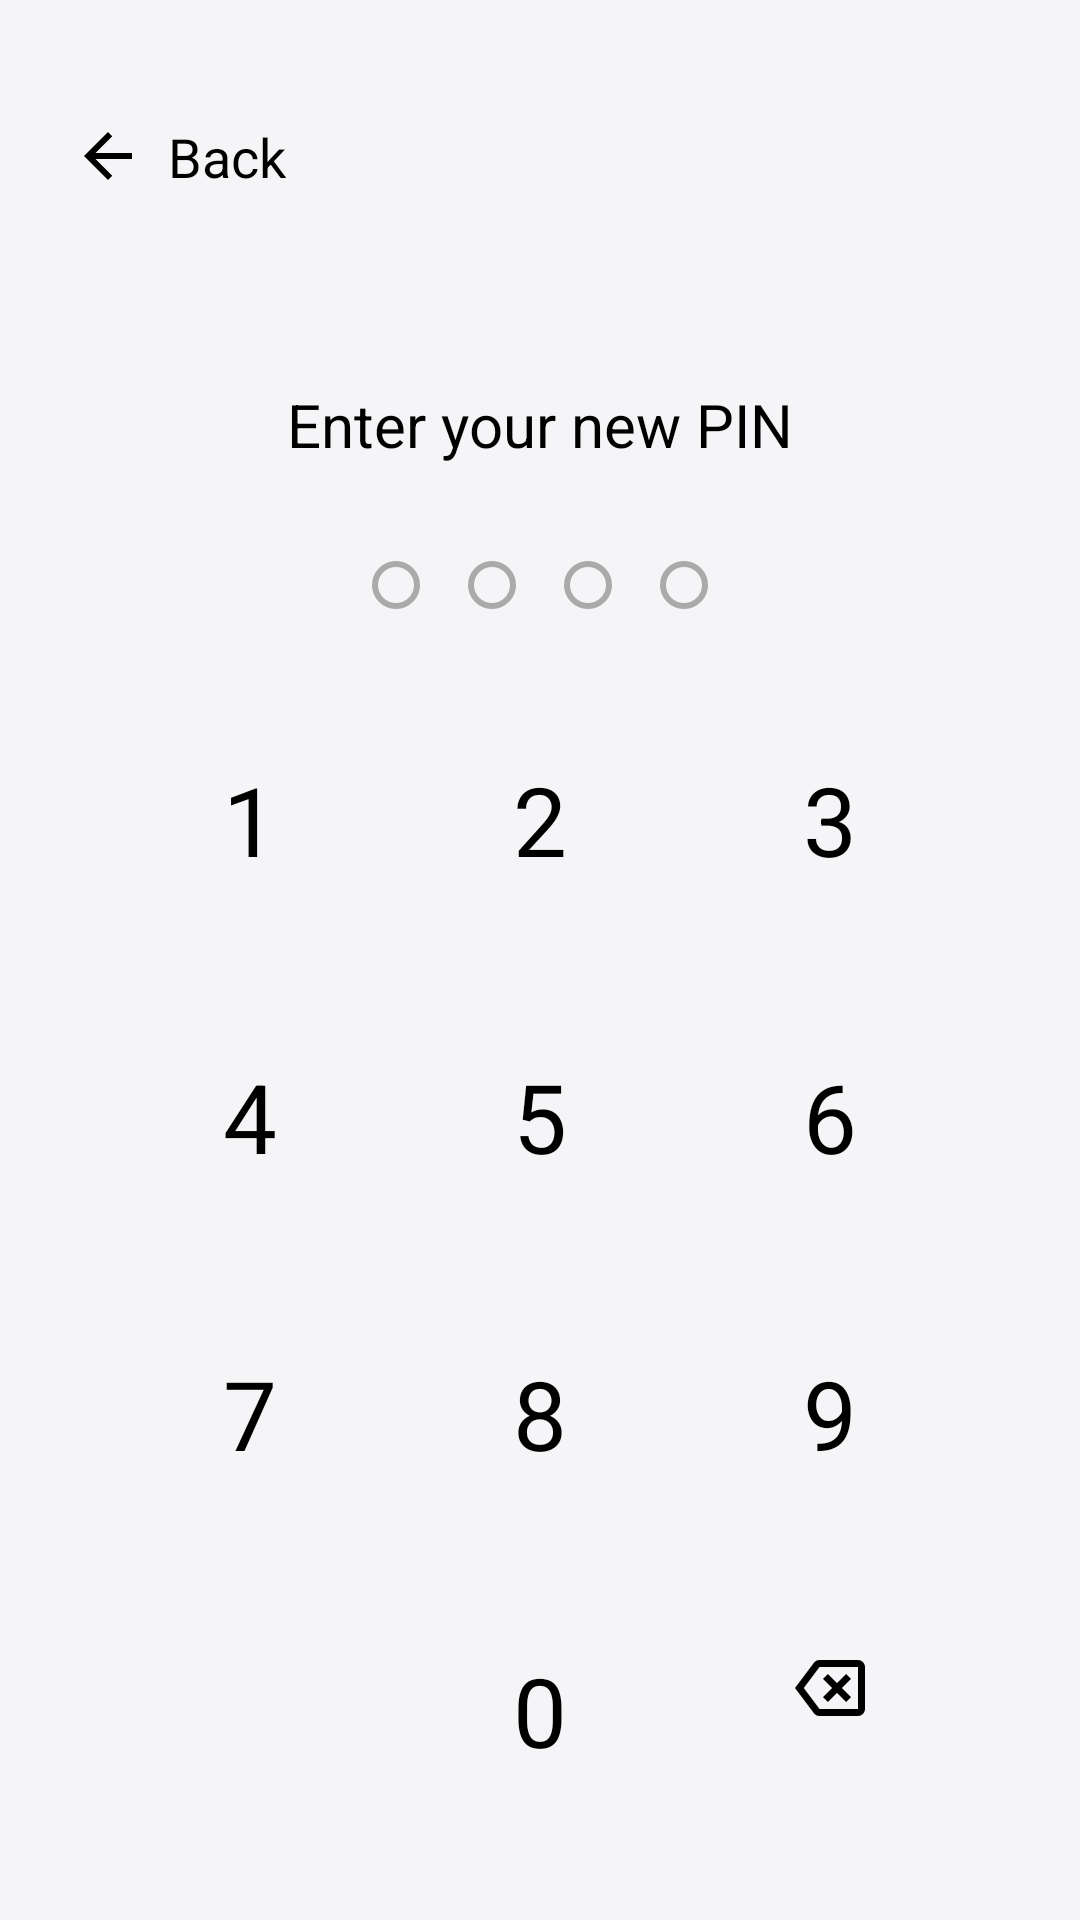

Named icons in this screenshot (1080×1920) and their bounding boxes, (x1, y1, x2, y2):
pin dot empty: (372, 561, 420, 609), (468, 561, 516, 609), (564, 561, 612, 609), (660, 561, 708, 609)
Tombol hapus: (795, 1660, 865, 1716)
Tombol kembali: (84, 132, 132, 180)
